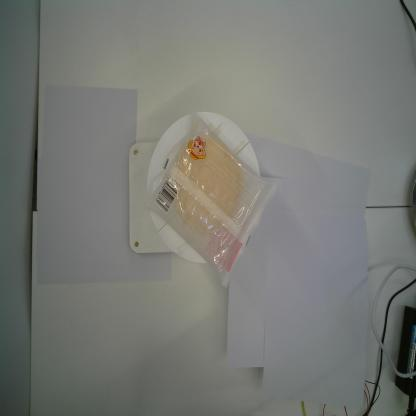Dessert: (144, 110, 284, 289)
